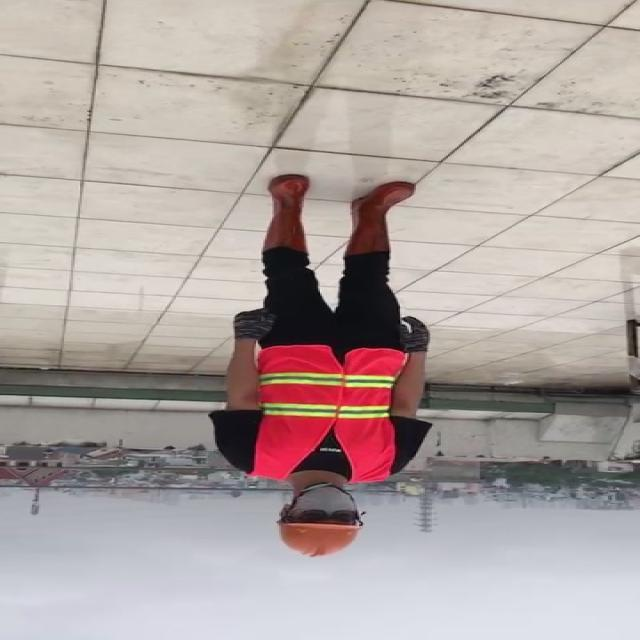Boots: (334, 181, 420, 257), (255, 174, 318, 254)
Glasses: (291, 506, 363, 525)
Gloves: (228, 308, 276, 341), (400, 317, 438, 353)
Helmet: (276, 519, 368, 560)
Vest: (250, 347, 402, 478)
